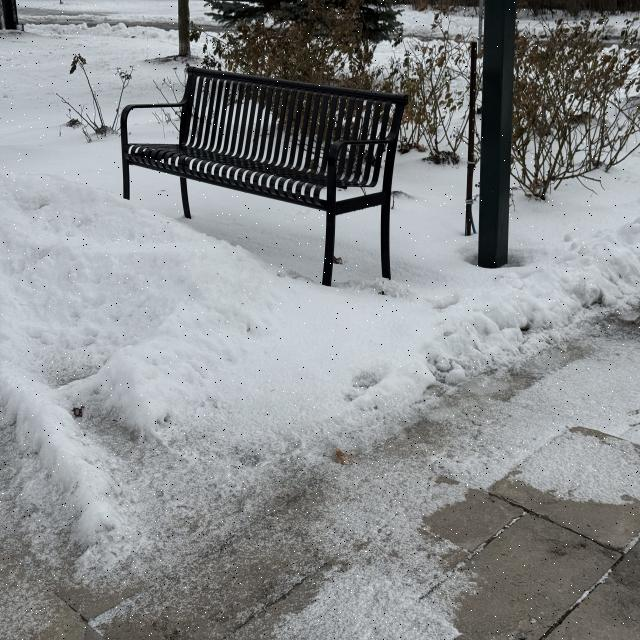Bench: (118, 58, 408, 285)
